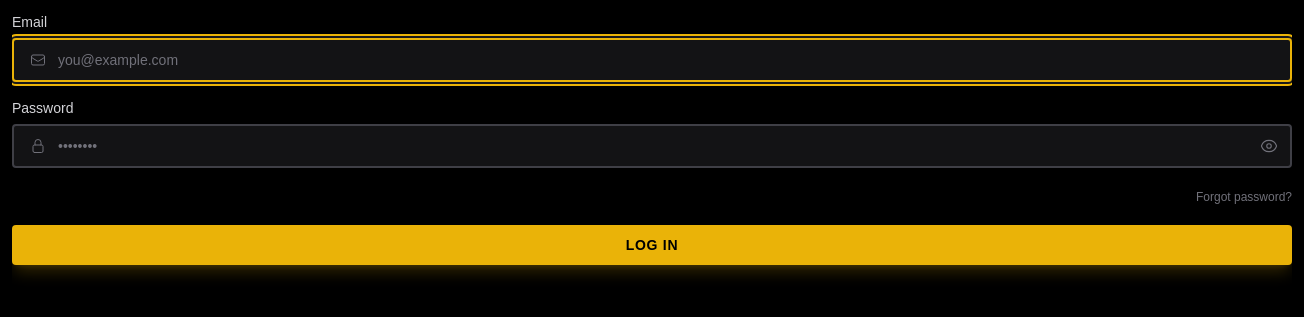
Test: AuthForm › validation errors display adjacent to fields › displays email validation error when email is empty on submit
The width and height of the screenshot is (1304, 317).
In the password field labelled "Password": (647, 146) [46,126,1248,166], type "password123"
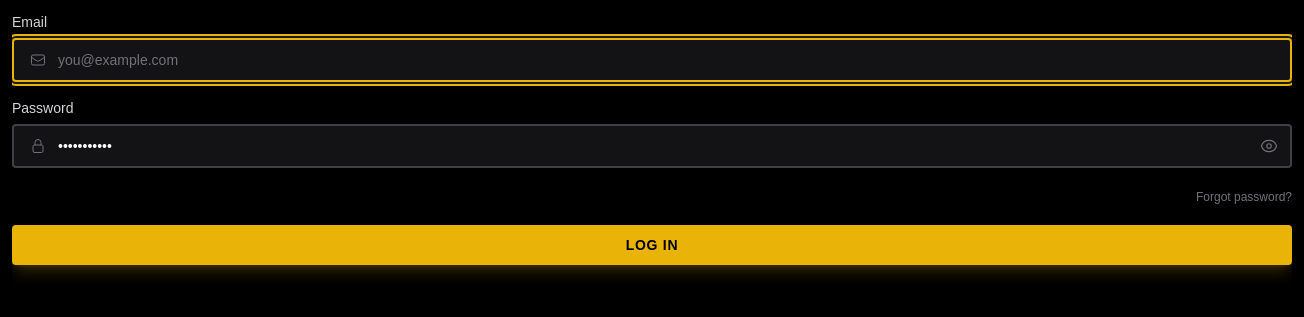
Submit the form "Email Password Forgot password? Log In"
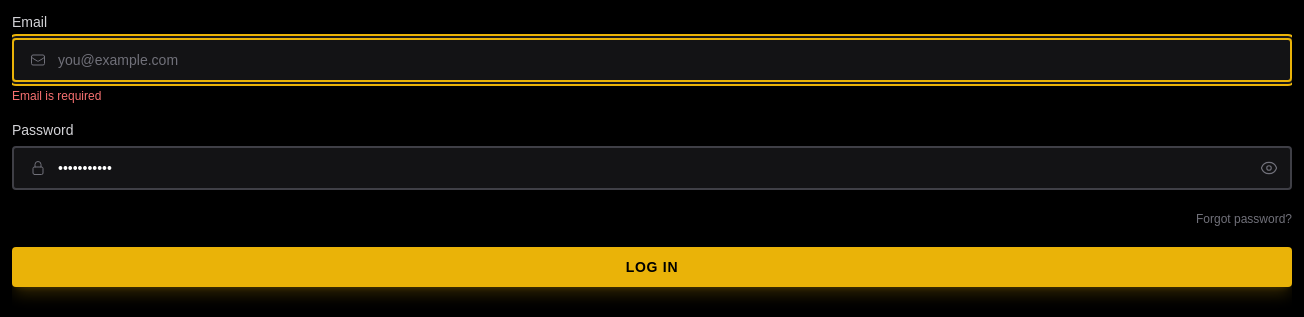
expect the text "Email is required" is shown: met, box [12,89,101,103]
